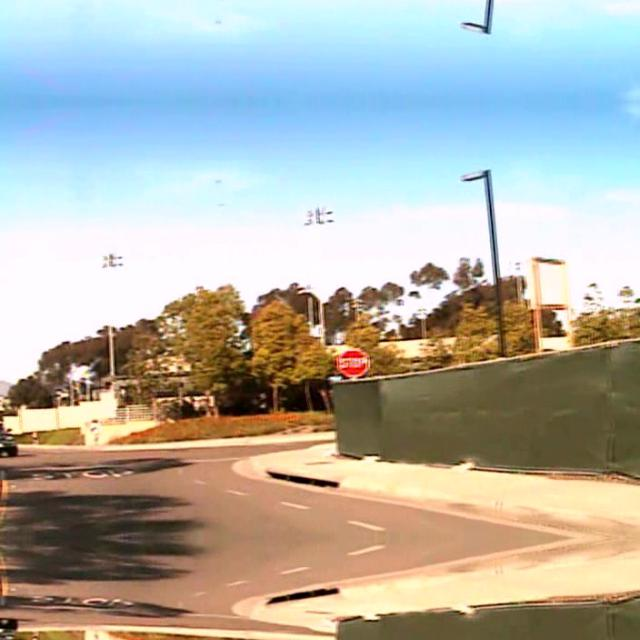stop: (336, 348, 368, 374)
